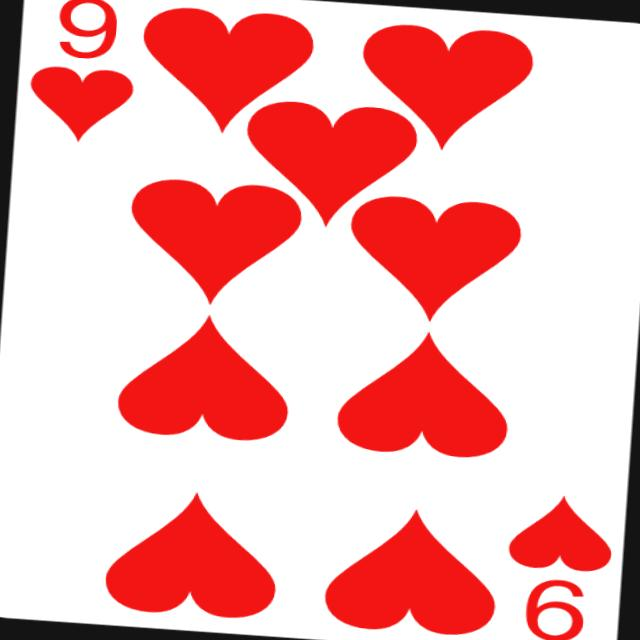Heart: (113, 306, 294, 444), (356, 20, 536, 157), (123, 176, 304, 312), (334, 324, 515, 460), (321, 502, 502, 638), (104, 484, 282, 622), (137, 3, 317, 139), (240, 98, 420, 232), (344, 192, 524, 326), (506, 492, 616, 574), (26, 64, 135, 146)
